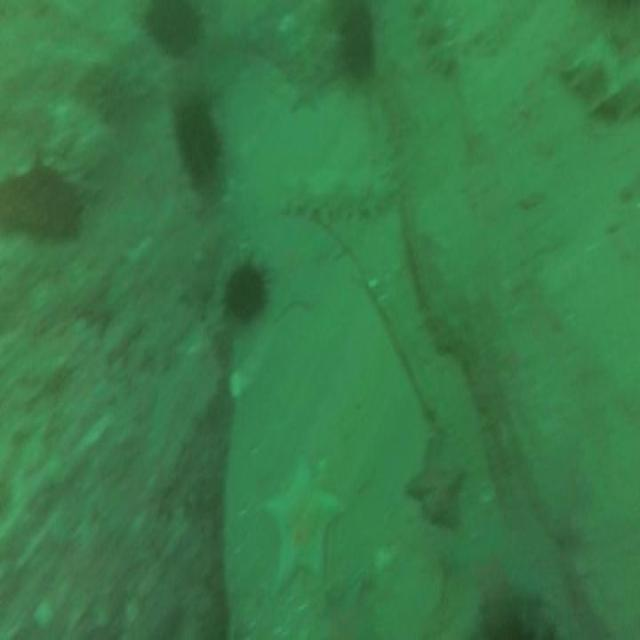echinus: (176, 100, 220, 172), (148, 0, 200, 57), (228, 262, 268, 321), (338, 4, 372, 66)
holothurian: (567, 41, 640, 120), (284, 168, 390, 221)
starfish: (265, 463, 341, 585), (406, 441, 464, 523)
